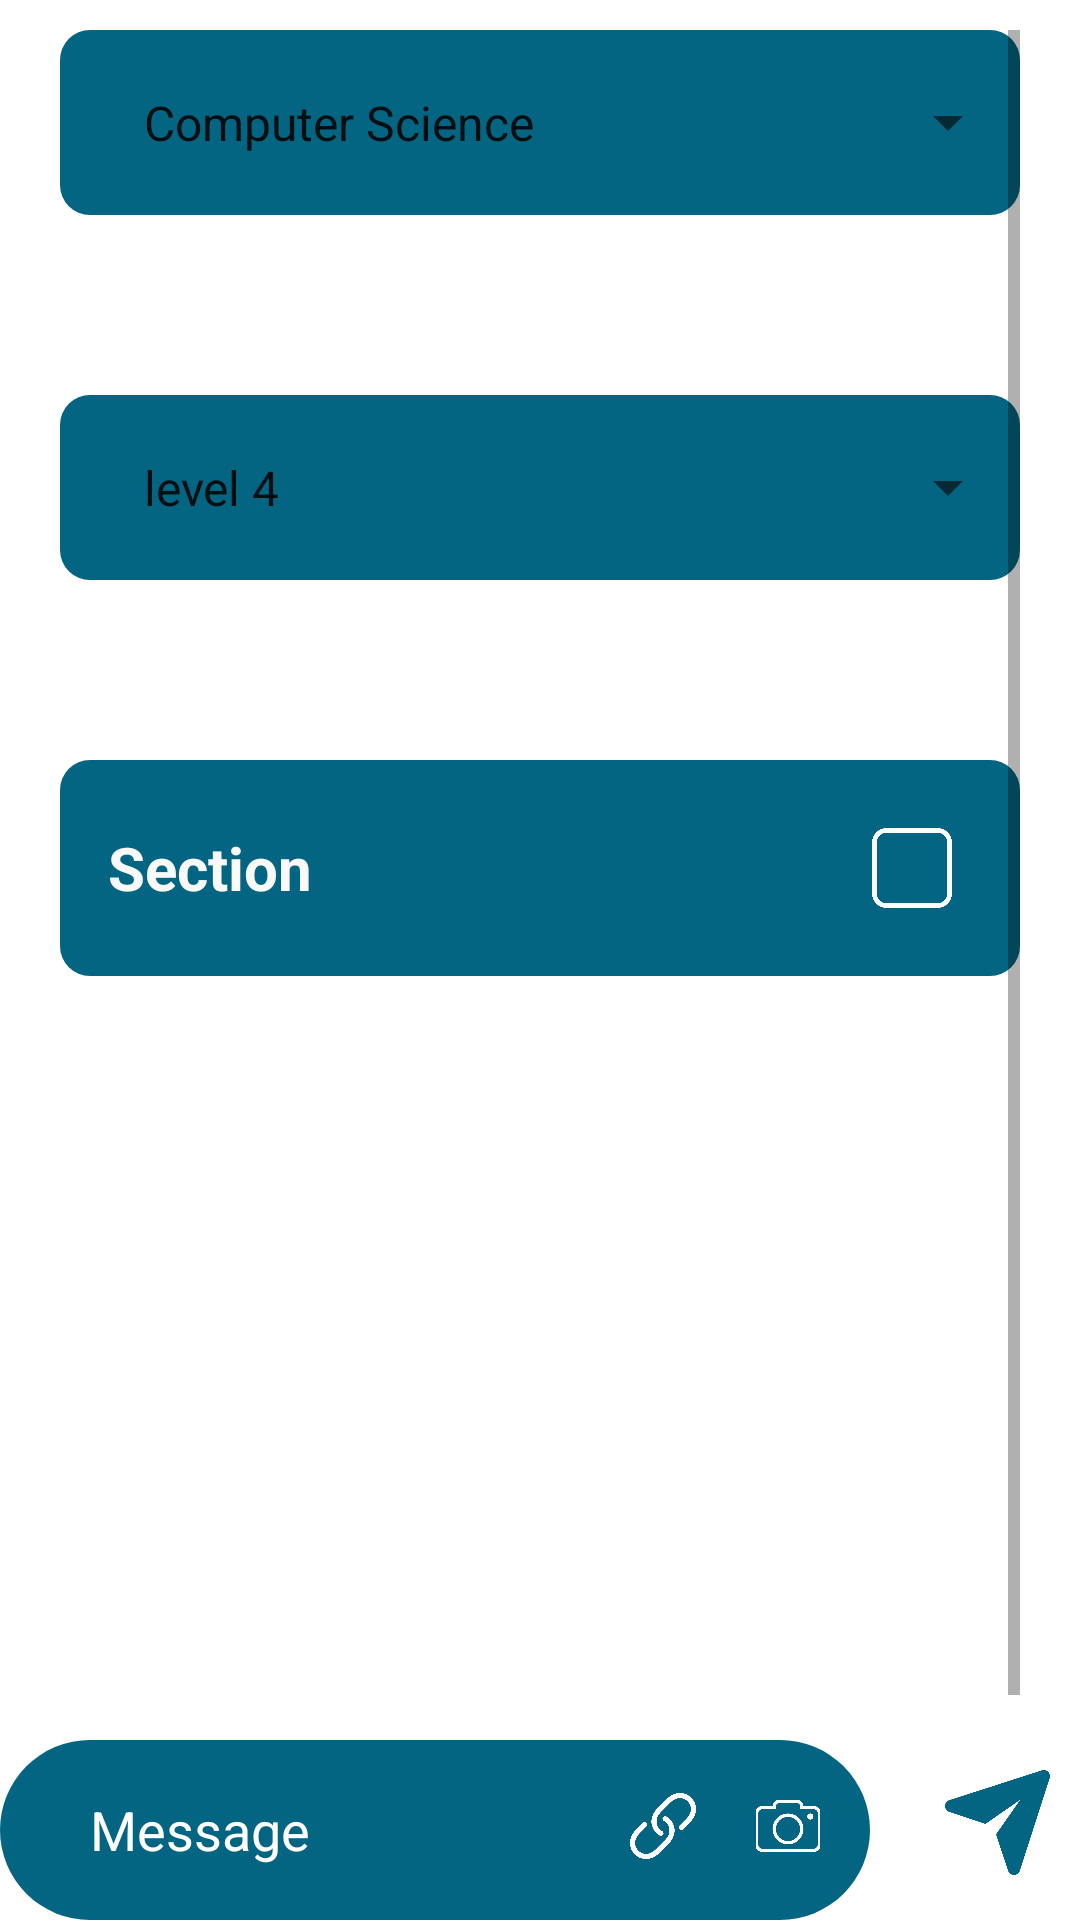

Icon click points for this 1080x1920 phone screenshot, format [x,y]:
camera: [788,1826]
send: [997,1822]
uncheck wite checkbox: [912,868]
